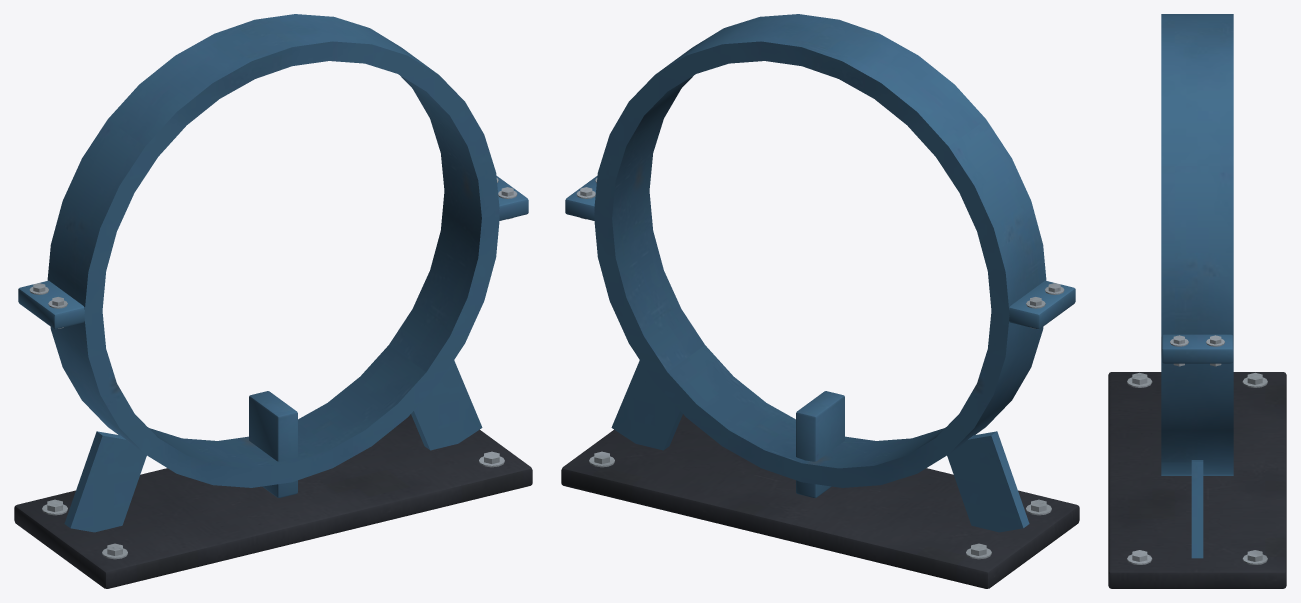
Rendered from main_pipe_mount.glb.
3 views of the same model, side by side, from view 1: azimuth 30°, elevation 25°; view 2: azimuth 150°, elevation 25°; view 3: azimuth 270°, elevation 25° (orthographic). The views are drawn at different scales.
Parts seen in each view (by area): view 1: Body.009; view 2: Body.009; view 3: Body.009.
Part boxes in pixels (x1=…): Body.009: x1=14, y1=14, x2=532, y2=588; Body.009: x1=561, y1=14, x2=1079, y2=588; Body.009: x1=1108, y1=14, x2=1286, y2=588.
Size of the model in its own units: 0.732 by 0.6935 by 0.247.
Materials: 4 (4 with a texture image).
